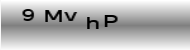9: (20, 8, 35, 22)
M: (43, 8, 64, 24)
P: (103, 14, 118, 29)
h: (85, 15, 100, 30)
v: (64, 10, 78, 22)
